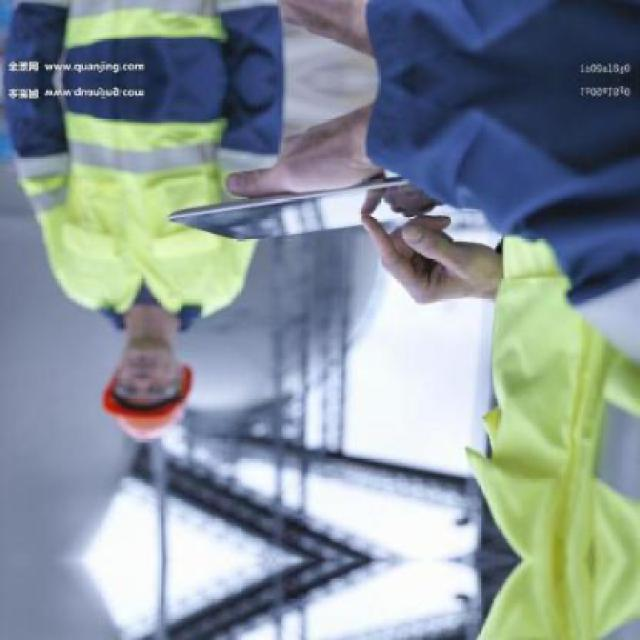con casco: (99, 347, 205, 451)
